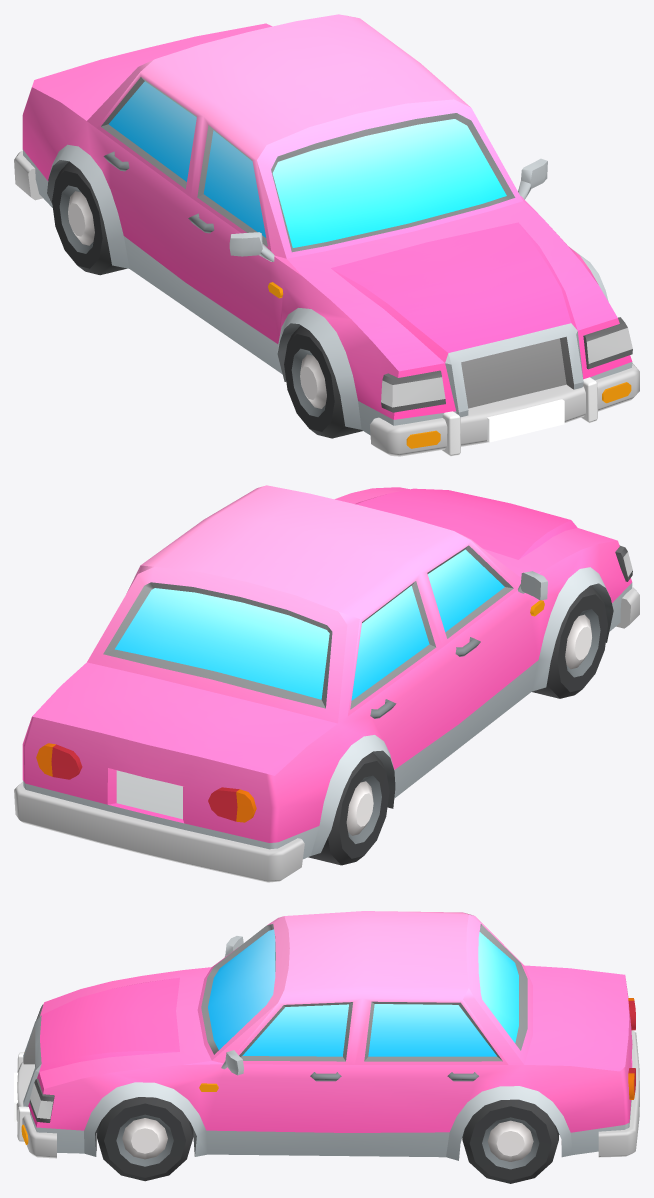
Rendered from city2-car-25.glb.
3 renders of one model, top to bottom at view 1: azimuth 30°, elevation 25°; view 2: azimuth 150°, elevation 25°; view 3: azimuth 270°, elevation 25°, orthographic. The views are drawn at different scales.
Parts seen in each view (by area): view 1: Car_25, Wheel_265, Wheel_266; view 2: Car_25, Wheel_266, Wheel_265; view 3: Car_25, Wheel_267, Wheel_268.
Boxes of the visible parts, bbox=[...] form: Car_25: bbox=[14, 14, 639, 456]; Wheel_265: bbox=[284, 325, 362, 438]; Wheel_266: bbox=[52, 161, 126, 275]; Car_25: bbox=[14, 485, 639, 882]; Wheel_266: bbox=[308, 752, 389, 865]; Wheel_265: bbox=[532, 585, 607, 698]; Car_25: bbox=[14, 911, 639, 1160]; Wheel_267: bbox=[97, 1097, 193, 1181]; Wheel_268: bbox=[462, 1099, 558, 1183].
Bounding box in the file's own units: 2.62 × 1.81 × 5.5.
Materials: 2 (2 with a texture image).
